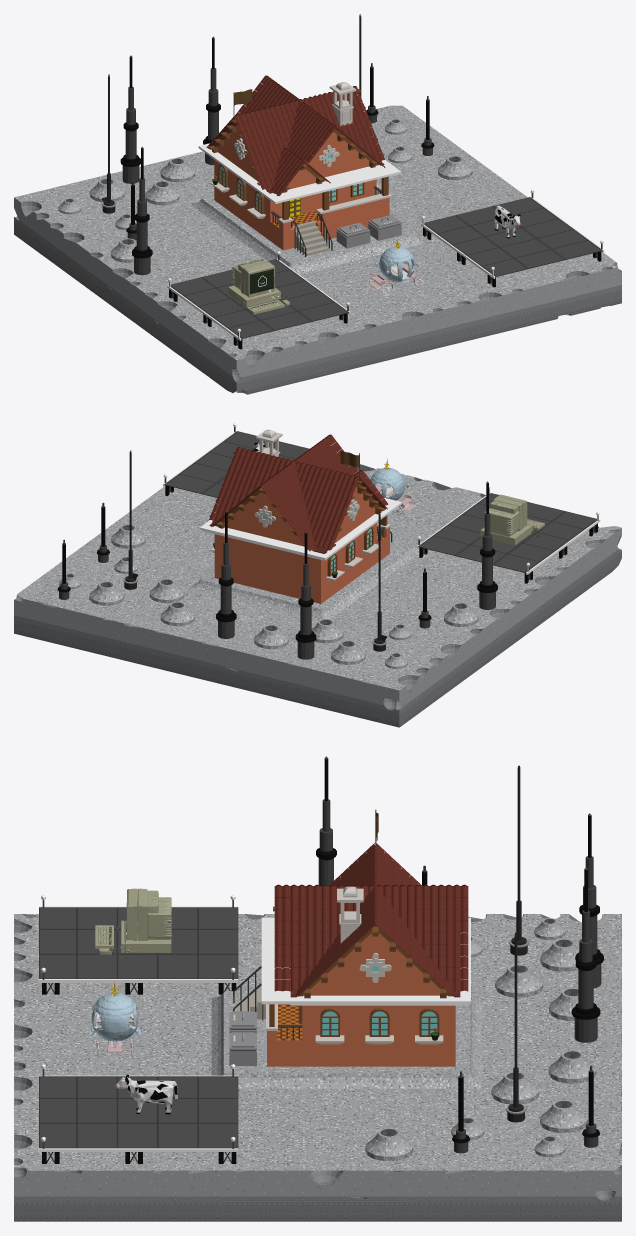
3 renders of one model, top to bottom at view 1: azimuth 30°, elevation 25°; view 2: azimuth 150°, elevation 25°; view 3: azimuth 270°, elevation 25°, orthographic. The views are drawn at different scales.
Visible parts, largest first — view 1: Cube.027, Cube.1141, Cube.026, Cube.025, Cube.028, OBJRANDOM_RETRO_PC, VEHICLES_FANTASY_CARRIAGE, Cylinder.020, Cylinder.021, Cylinder.017, Cube.029, Cube.030 (+5 smaller); view 2: Cube.027, Cube.1141, Cube.025, Cube.028, Cube.026, OBJRANDOM_RETRO_PC, Cylinder.020, Cylinder.021, Cylinder.017, VEHICLES_FANTASY_CARRIAGE, Cylinder.031, Cylinder.028 (+8 smaller); view 3: Cube.027, Cube.1141, Cube.026, Cube.025, Cube.028, OBJRANDOM_RETRO_PC, Cylinder.017, VEHICLES_FANTASY_CARRIAGE, Cylinder.020, Cylinder.021, ANIMAL_VACA, Cylinder.033 (+11 smaller).
Boxes of the visible parts, x1,y1,x2,y2 form: Cube.027: [14, 105, 621, 394]; Cube.1141: [198, 75, 400, 256]; Cube.026: [421, 189, 604, 287]; Cube.025: [167, 251, 350, 349]; Cube.028: [191, 195, 424, 274]; OBJRANDOM_RETRO_PC: [228, 259, 289, 314]; VEHICLES_FANTASY_CARRIAGE: [368, 237, 424, 293]; Cylinder.020: [120, 55, 140, 183]; Cylinder.021: [132, 146, 152, 275]; Cylinder.017: [203, 36, 220, 164]; Cube.029: [336, 222, 370, 248]; Cube.030: [368, 215, 401, 240]; Cube.027: [14, 464, 621, 727]; Cube.1141: [199, 429, 401, 603]; Cube.025: [417, 485, 600, 583]; Cube.028: [190, 538, 419, 620]; Cube.026: [163, 423, 345, 497]; OBJRANDOM_RETRO_PC: [480, 494, 544, 545]; Cylinder.020: [295, 531, 316, 659]; Cylinder.021: [477, 481, 497, 609]; Cylinder.017: [216, 510, 236, 638]; VEHICLES_FANTASY_CARRIAGE: [370, 458, 415, 515]; Cylinder.031: [89, 581, 124, 605]; Cylinder.028: [331, 640, 365, 664]; Cube.027: [14, 914, 621, 1221]; Cube.1141: [233, 809, 470, 1066]; Cube.026: [39, 1064, 238, 1163]; Cube.025: [39, 895, 238, 994]; Cube.028: [211, 991, 481, 1088]; OBJRANDOM_RETRO_PC: [95, 888, 171, 958]; Cylinder.017: [571, 867, 600, 1042]; VEHICLES_FANTASY_CARRIAGE: [89, 981, 140, 1057]; Cylinder.020: [575, 813, 603, 988]; Cylinder.021: [316, 756, 336, 885]; ANIMAL_VACA: [115, 1074, 177, 1114]; Cylinder.033: [365, 1128, 413, 1160].
Size of the model in its own units: 4000 by 1840 by 4000.
36 materials, 4 textured.
